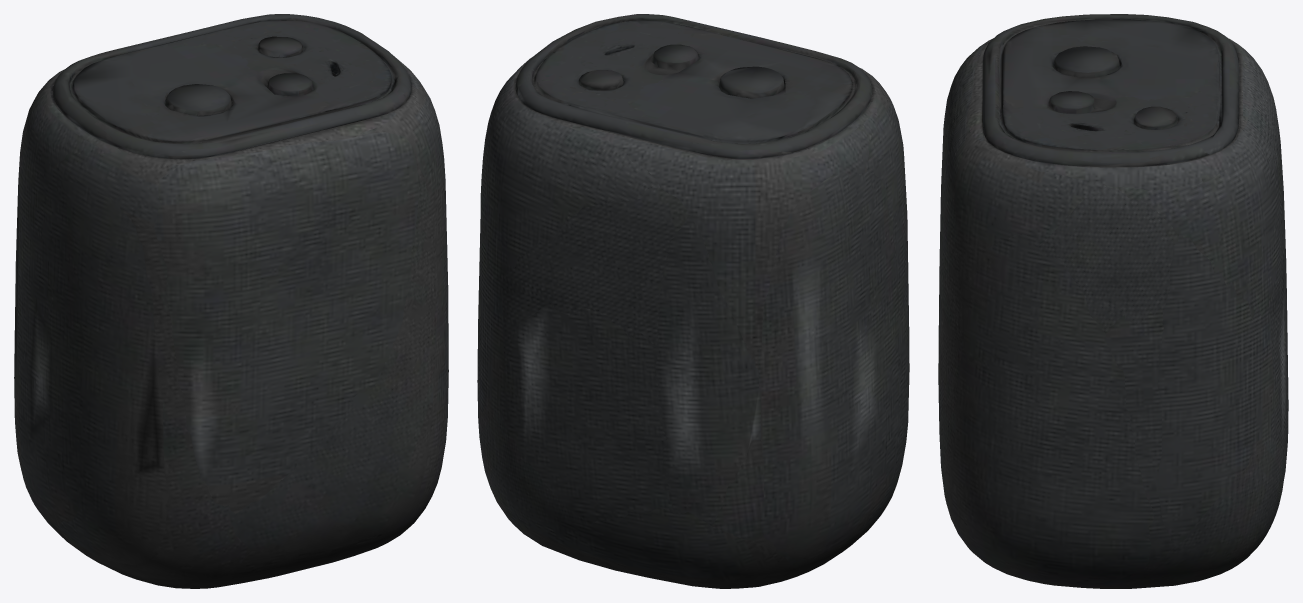
Rendered from speaker-lite.glb.
The picture shows the model from 3 angles, left to right: view 1: azimuth 30°, elevation 25°; view 2: azimuth 150°, elevation 25°; view 3: azimuth 270°, elevation 25°; orthographic projection.
Parts seen in each view (by area): view 1: node_0; view 2: node_0; view 3: node_0.
Part boxes in pixels (x1,y1,x2,y2): node_0: [14, 14, 448, 588]; node_0: [477, 14, 909, 588]; node_0: [938, 14, 1288, 588].
Size of the model in its own units: 0.8399 by 0.995 by 0.7078.
1 material, 1 textured.
